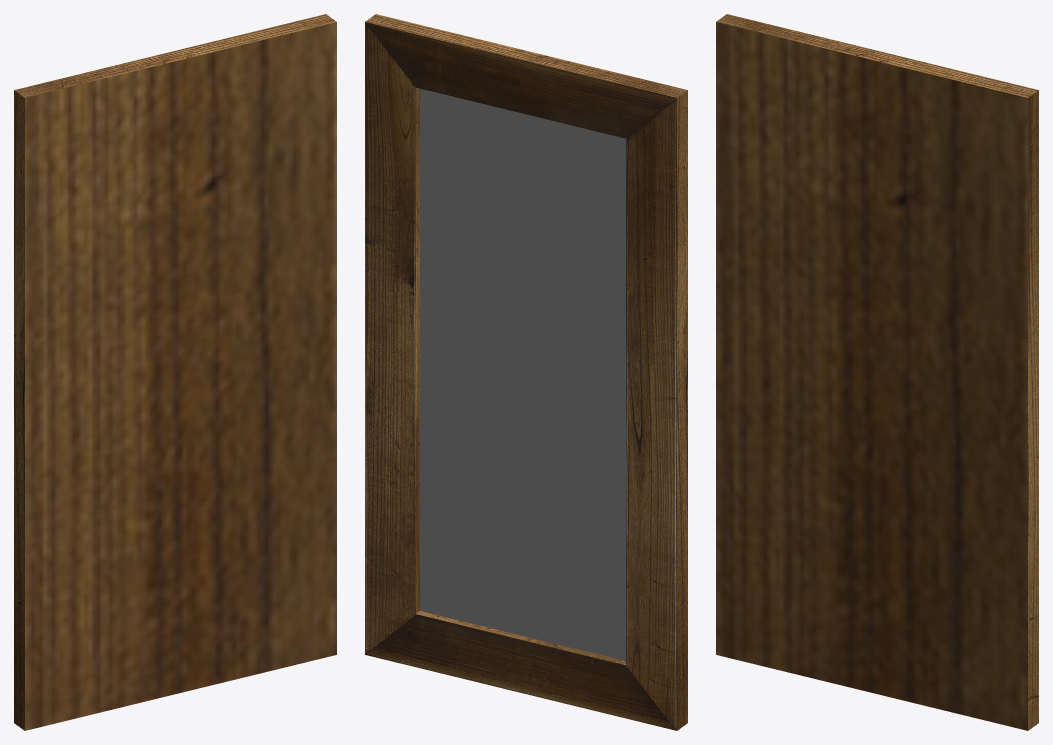
Rendered from Mirror 15.FBX.
The picture shows the model from 3 angles, left to right: view 1: azimuth 30°, elevation 25°; view 2: azimuth 150°, elevation 25°; view 3: azimuth 330°, elevation 25°; orthographic projection.
Parts seen in each view (by area): view 1: mirror 15; view 2: mirror 15; view 3: mirror 15.
Part boxes in pixels (<box>): mirror 15: <box>14,14,336,730</box>; mirror 15: <box>365,14,687,730</box>; mirror 15: <box>716,14,1038,730</box>.
Size of the model in its own units: 64.42 by 125 by 3.86.
Materials: 2 (1 with a texture image).
